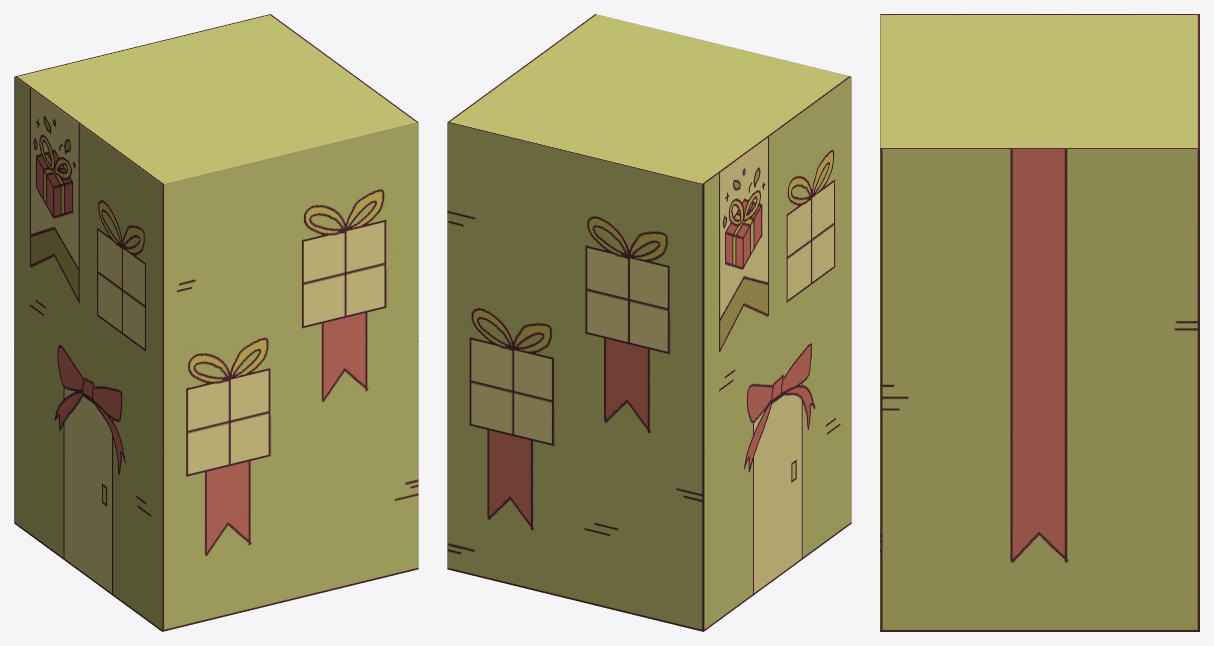
Rendered from dream_building12.fbx.
The picture shows the model from 3 angles, left to right: view 1: azimuth 30°, elevation 25°; view 2: azimuth 150°, elevation 25°; view 3: azimuth 270°, elevation 25°; orthographic projection. The views are drawn at different scales.
Parts seen in each view (by area): view 1: Box001; view 2: Box001; view 3: Box001.
Boxes of the visible parts, x1=… form: Box001: x1=14, y1=14, x2=418, y2=631; Box001: x1=447, y1=14, x2=851, y2=631; Box001: x1=880, y1=14, x2=1199, y2=631.
Size of the model in its own units: 360 by 600 by 360.
Materials: 1 (1 with a texture image).
